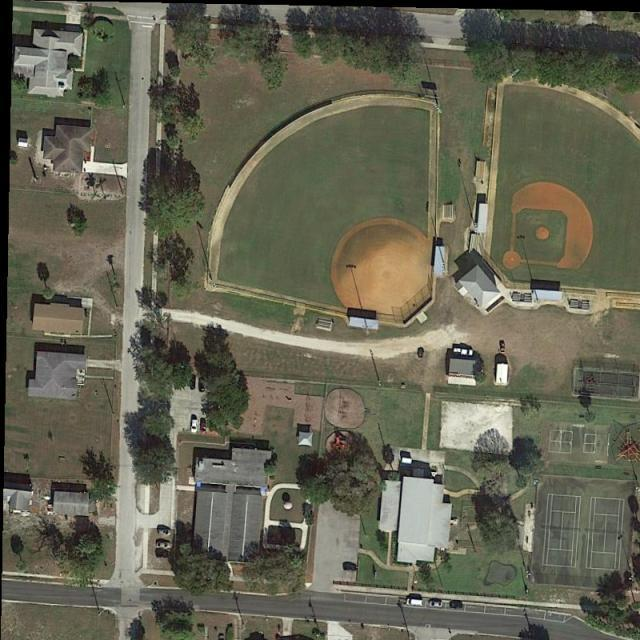vehicle: (448, 600, 465, 610), (343, 561, 357, 572), (454, 347, 474, 354), (156, 526, 171, 534), (408, 598, 422, 606), (429, 600, 443, 608), (190, 374, 197, 390), (198, 377, 205, 393), (199, 417, 205, 433), (155, 542, 171, 548), (500, 340, 506, 355), (192, 419, 198, 432), (218, 633, 224, 640)
